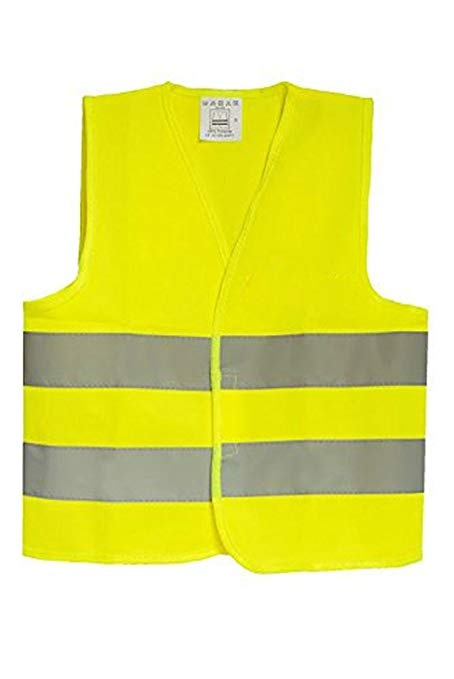safety vest: (25, 85, 431, 579)
